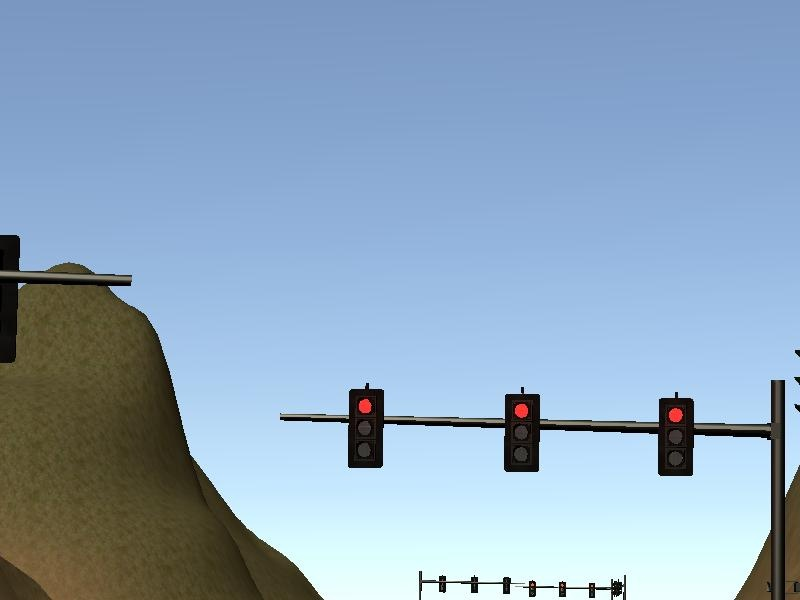red: (345, 387, 385, 468), (656, 395, 695, 477), (503, 392, 540, 474)
